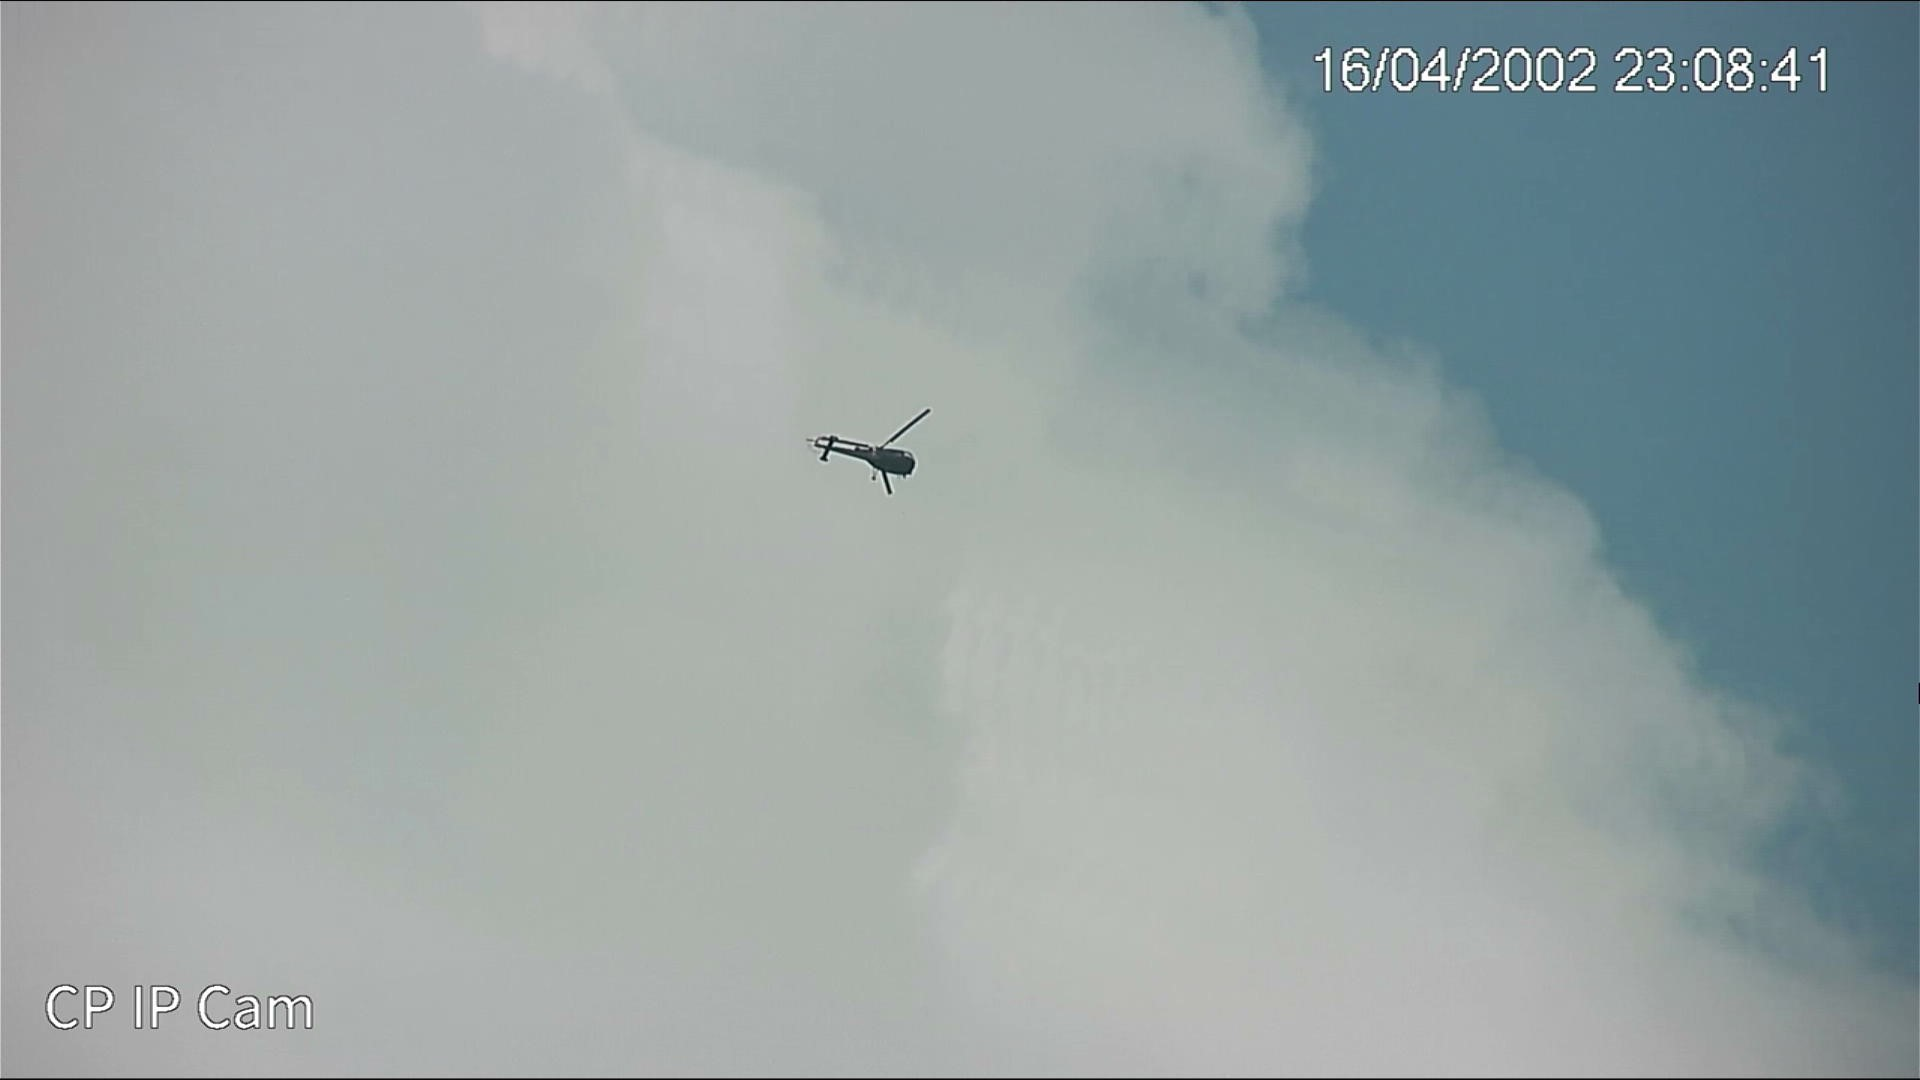SU_30: (804, 430, 923, 495)
